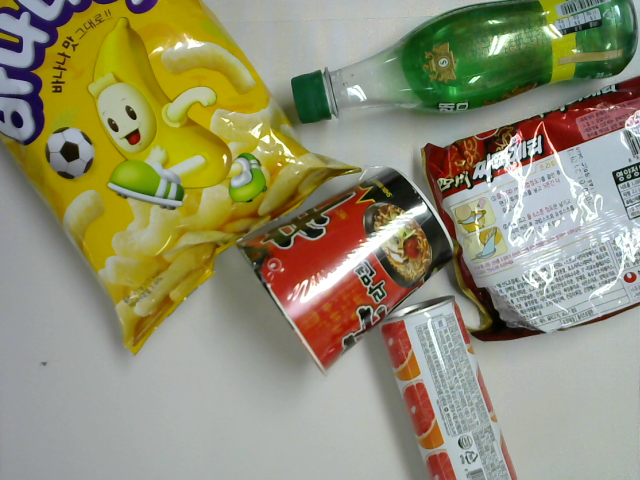Banana_Kick: (1, 2, 369, 365)
Demisoda_Grapefruit_Can_250ml: (382, 294, 523, 480)
Seagram_Lemon_Carbonated_Water: (290, 1, 638, 128)
Sichuan_Chapaghetti: (424, 77, 640, 342)
Sinramen_small: (228, 165, 459, 378)
